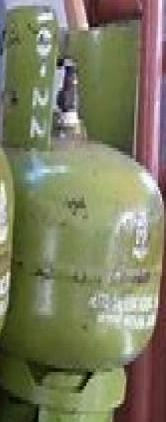cylinder: (0, 1, 166, 422)
